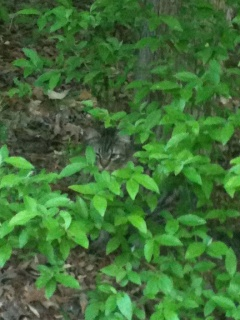Cat: (78, 134, 127, 250)
